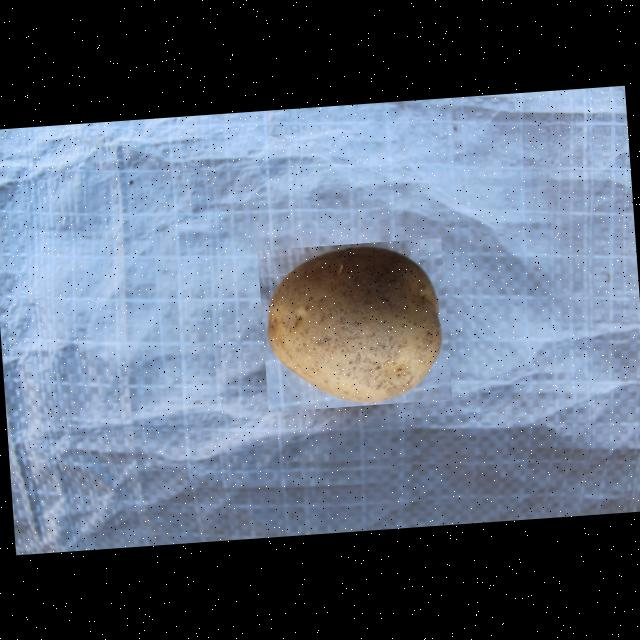Diseased-fungal potato: (257, 238, 452, 412)
